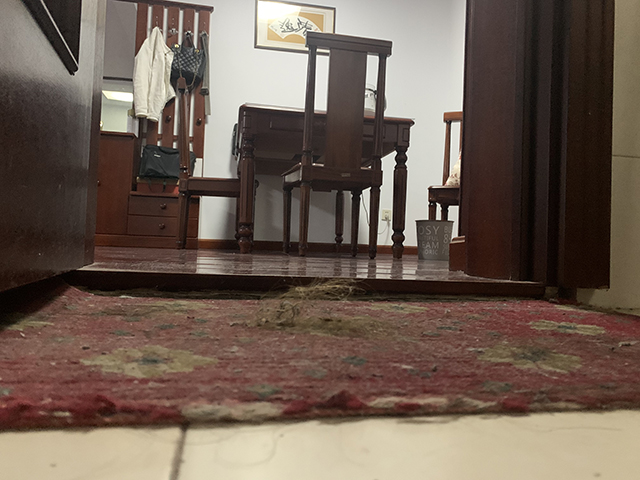carpet: (1, 282, 639, 434), (94, 129, 201, 251)
stool: (279, 30, 395, 260), (176, 75, 261, 253), (427, 110, 463, 237)
table: (230, 101, 416, 261)
trashcan: (415, 219, 456, 262)
